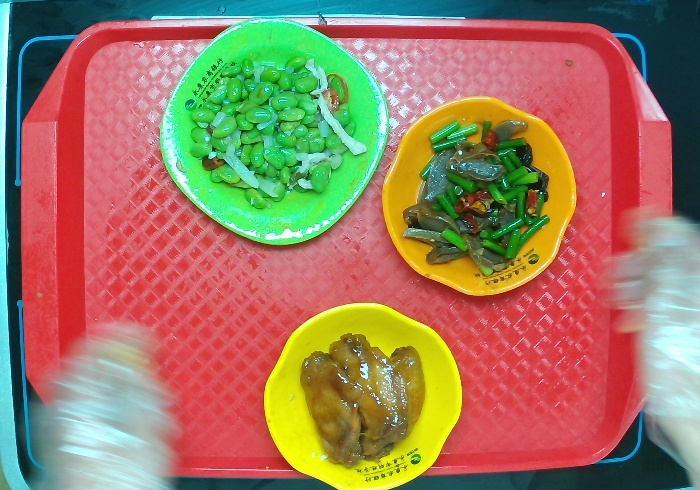YKMZ-Huang_Se_Ao_Bian_Wan: (262, 302, 465, 490)
YKMZ-Ju_Se_Ao_Bian_Wan: (379, 93, 578, 298)
YKMZ-Lv_Se_Fang_Die: (158, 15, 392, 248)
